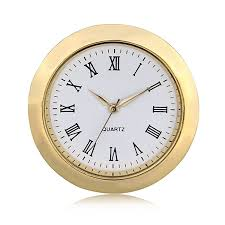alarm_clock: (26, 23, 197, 191), (26, 31, 197, 191)
